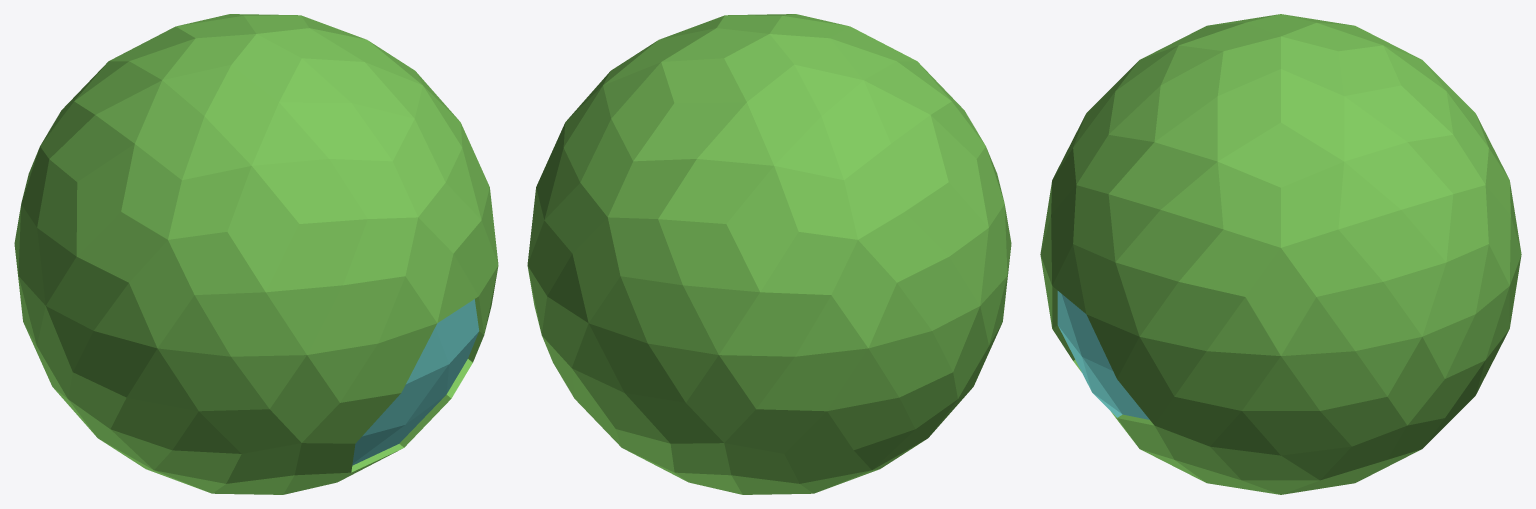
3 views of the same model, side by side, from view 1: azimuth 30°, elevation 25°; view 2: azimuth 150°, elevation 25°; view 3: azimuth 270°, elevation 25° (orthographic).
Parts seen in each view (by area): view 1: Node1; view 2: Node1; view 3: Node1.
Boxes of the visible parts, x1,y1,x2,y2 form: Node1: (14, 14, 498, 494); Node1: (527, 14, 1011, 494); Node1: (1040, 14, 1521, 494).
Bounding box in the file's own units: 1.87 × 1.87 × 1.87.
